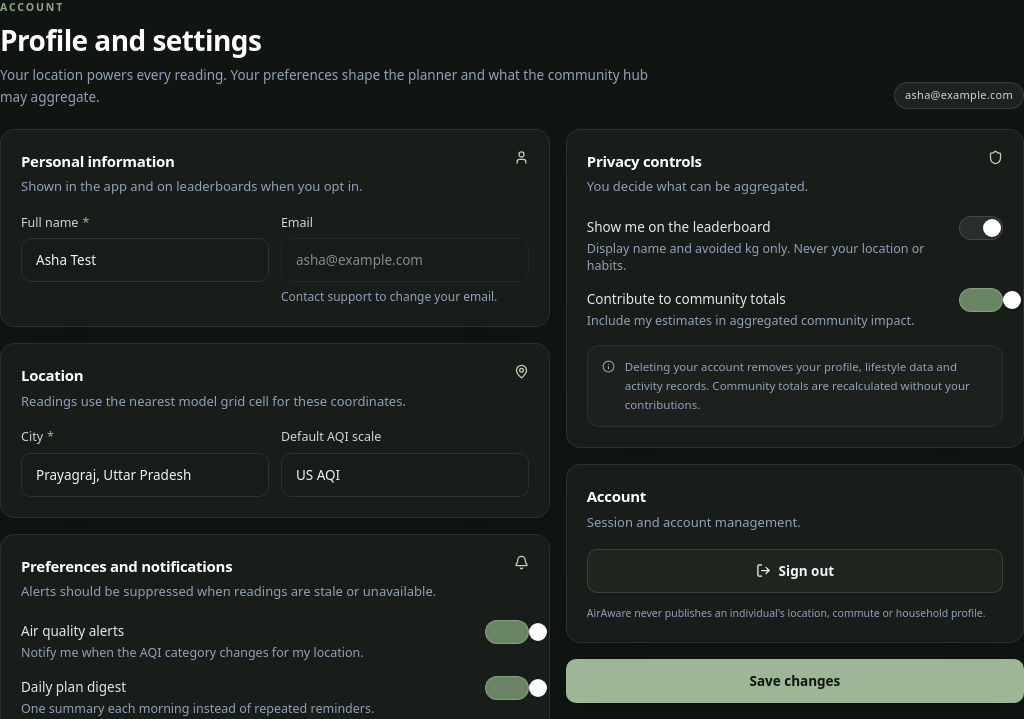
Test: Settings interactions › reports a save failure and retries a failed profile refresh
The width and height of the screenshot is (1024, 719).
Later steps or results of the test are not shown.
Click the button "Save changes": (795, 681) [566, 659, 1023, 703]
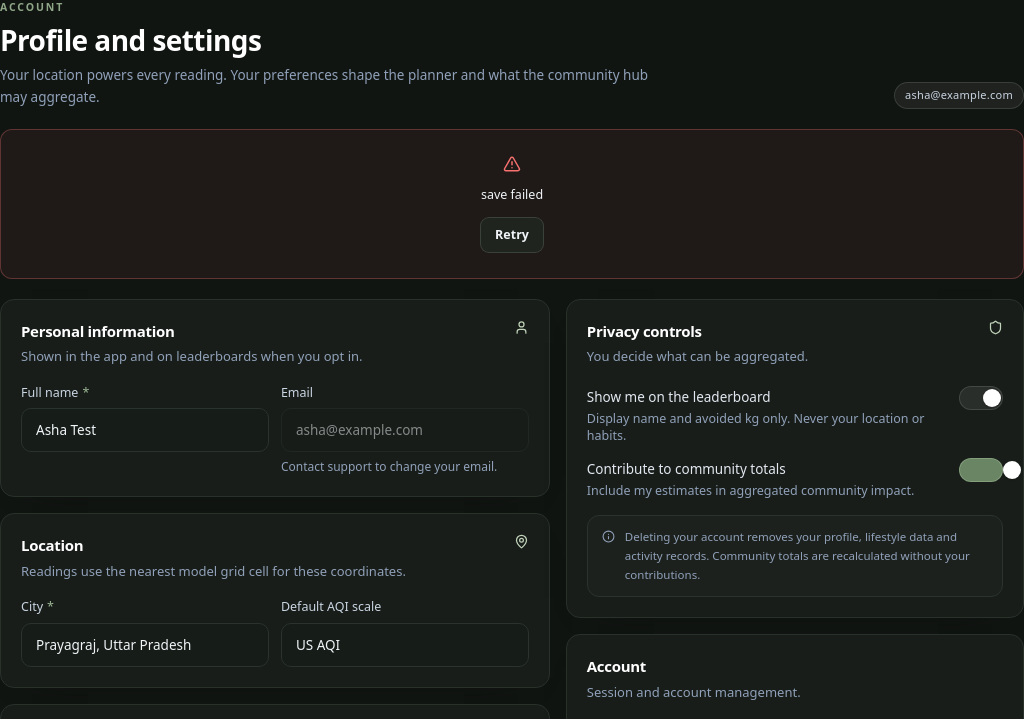
expect the message shows "save failed": met, box [481, 186, 543, 203]
Click the button "Retry": (512, 235) [480, 217, 544, 253]
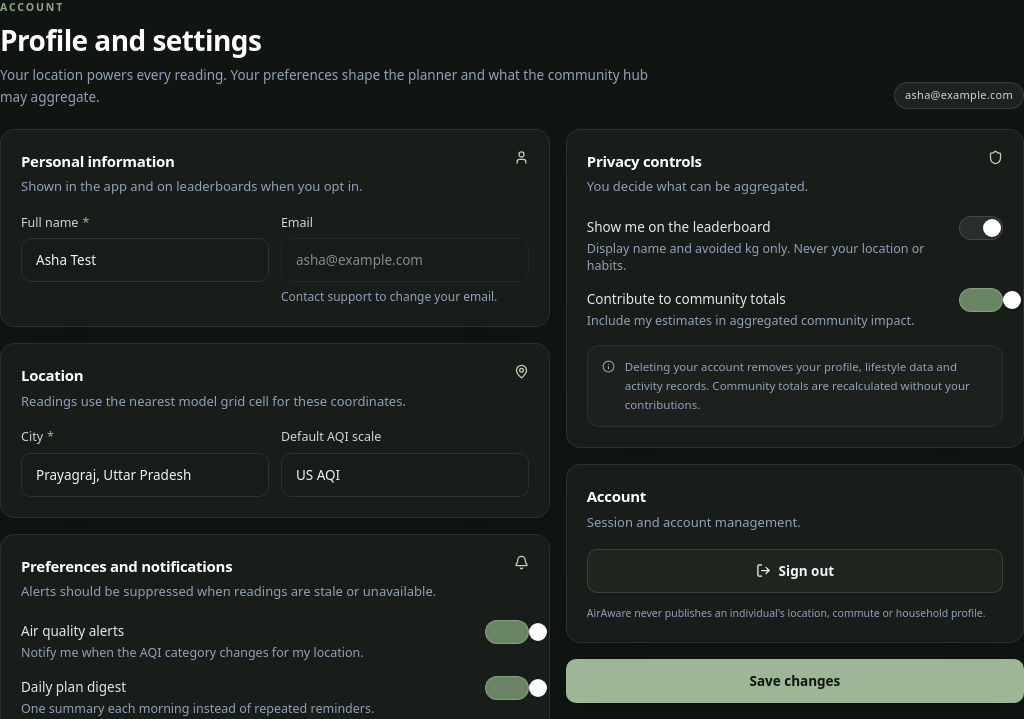
expect the message "save failed Retry" is gone: met
